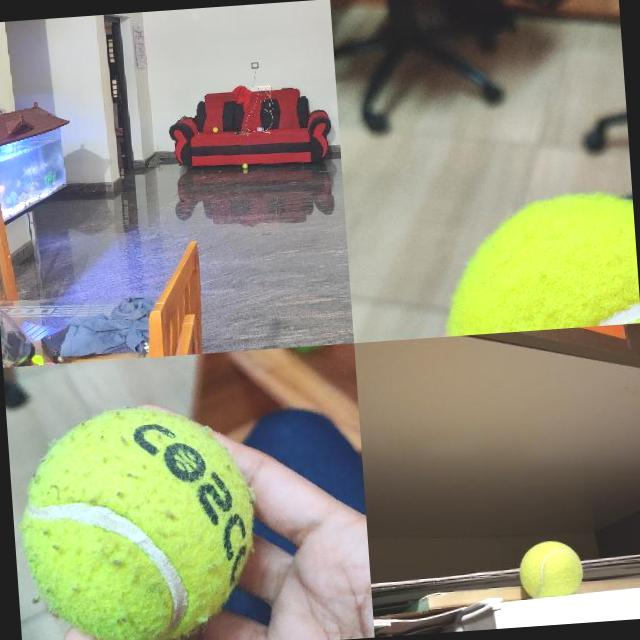Tennis Ball: (14, 398, 264, 640), (439, 190, 640, 335), (517, 538, 585, 596), (212, 127, 218, 132), (242, 163, 247, 168)
